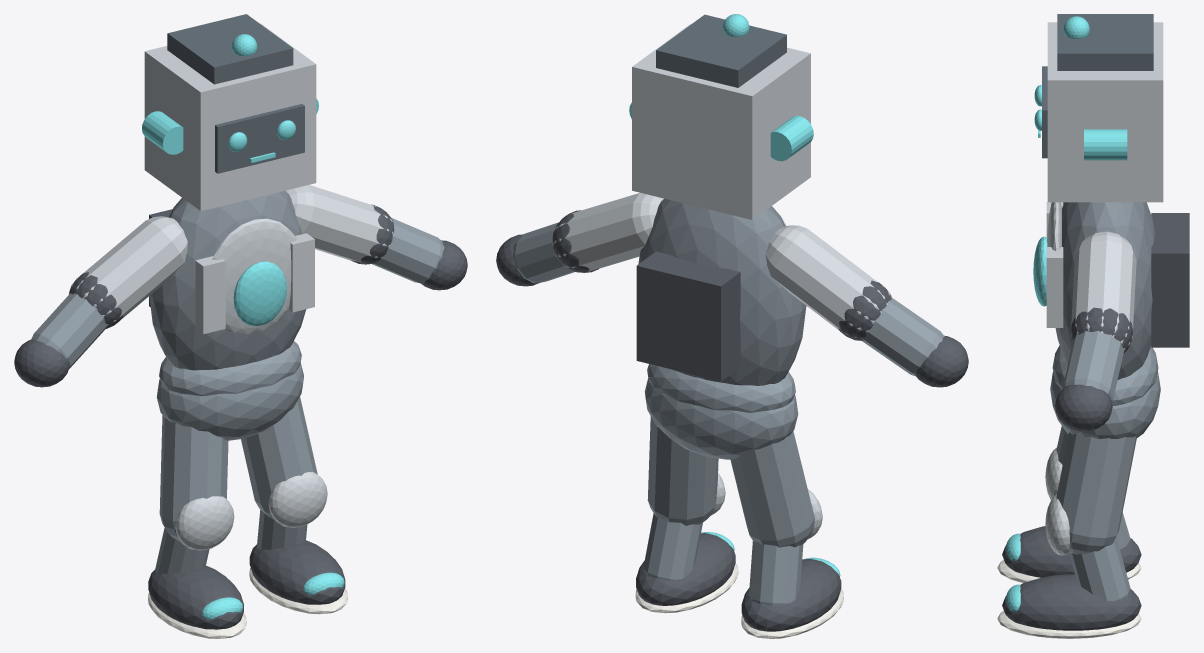
Rendered from 06_robot.glb.
3 renders of one model, left to right at view 1: azimuth 30°, elevation 25°; view 2: azimuth 150°, elevation 25°; view 3: azimuth 270°, elevation 25°, orthographic. The views are drawn at different scales.
Parts seen in each view (by area): view 1: Robot head, Torso, Left upper arm, Shorts or hip section, Top head shell, Left thigh, Right upper arm, Chest panel, Right thigh, Left shoe, Right shoe, Face display (+17 smaller); view 2: Robot head, Torso, Back battery, Left thigh, Left upper arm, Shorts or hip section, Top head shell, Right thigh, Right upper arm, Waist, Left shoe, Right shoe (+11 smaller); view 3: Robot head, Torso, Right thigh, Right shoe, Back battery, Top head shell, Right upper arm, Right forearm armor, Left shoe, Right shin, Shorts or hip section, Right glove (+15 smaller).
Boxes of the visible parts, bbox=[...] form: Robot head: bbox=[144, 23, 316, 210]; Torso: bbox=[149, 190, 306, 370]; Left upper arm: bbox=[69, 216, 187, 326]; Shorts or hip section: bbox=[156, 363, 303, 440]; Top head shell: bbox=[167, 14, 293, 84]; Left thigh: bbox=[159, 415, 228, 541]; Right upper arm: bbox=[286, 185, 393, 263]; Chest panel: bbox=[212, 218, 296, 334]; Right thigh: bbox=[241, 397, 317, 519]; Left shoe: bbox=[148, 565, 243, 629]; Right shoe: bbox=[249, 540, 345, 604]; Face display: bbox=[215, 104, 304, 173]; Robot head: bbox=[632, 24, 810, 219]; Torso: bbox=[638, 198, 806, 385]; Back battery: bbox=[636, 251, 740, 381]; Left thigh: bbox=[730, 431, 814, 547]; Left upper arm: bbox=[765, 225, 891, 340]; Shorts or hip section: bbox=[644, 378, 798, 459]; Top head shell: bbox=[656, 14, 786, 87]; Right thigh: bbox=[647, 416, 718, 525]; Right upper arm: bbox=[552, 192, 663, 272]; Waist: bbox=[647, 364, 795, 412]; Left shoe: bbox=[741, 559, 841, 631]; Right shoe: bbox=[636, 533, 735, 605]; Robot head: bbox=[1047, 22, 1163, 202]; Torso: bbox=[1055, 202, 1155, 379]; Right thigh: bbox=[1056, 432, 1136, 554]; Right shoe: bbox=[1002, 574, 1141, 630]; Back battery: bbox=[1151, 213, 1189, 347]; Top head shell: bbox=[1057, 14, 1153, 70]; Right upper arm: bbox=[1071, 231, 1136, 352]; Right forearm armor: bbox=[1062, 330, 1124, 400]; Left shoe: bbox=[1002, 526, 1141, 577]; Right shin: bbox=[1069, 537, 1130, 601]; Shorts or hip section: bbox=[1050, 371, 1160, 438]; Right glove: bbox=[1055, 384, 1112, 431].
Bounding box in the file's own units: 2.2 × 2.7 × 0.8.
